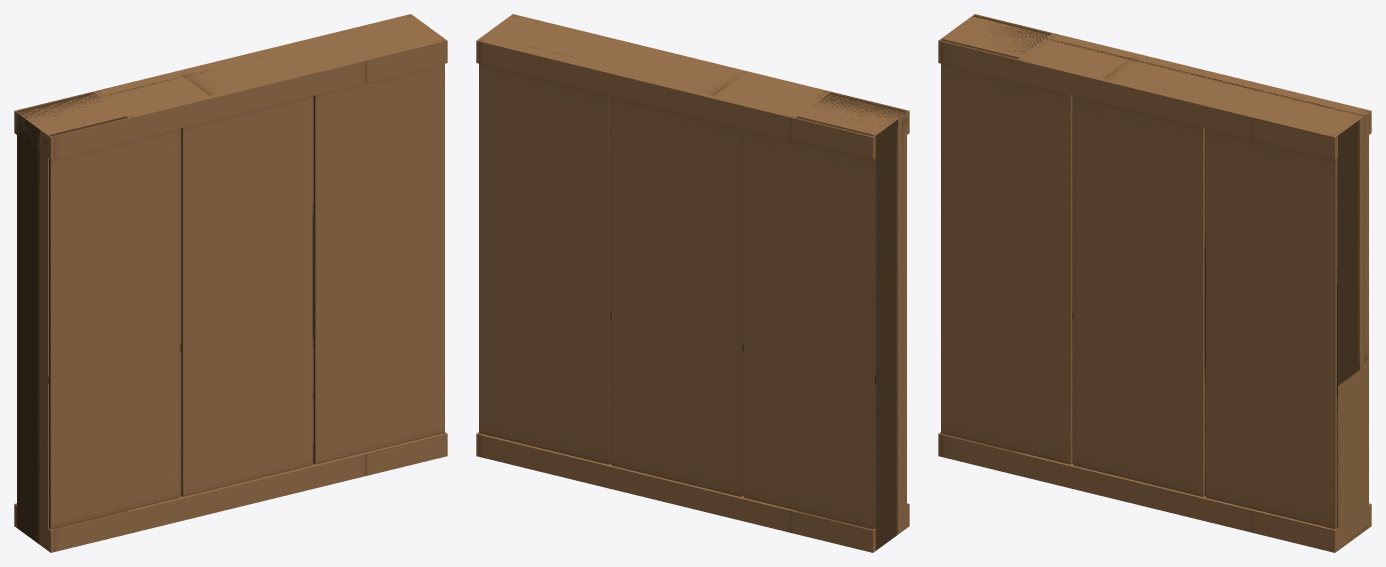
Rendered from BD_wall.glb.
3 renders of one model, left to right at view 1: azimuth 30°, elevation 25°; view 2: azimuth 150°, elevation 25°; view 3: azimuth 330°, elevation 25°, orthographic.
Visible parts, largest first — view 1: BD_wall; view 2: BD_wall; view 3: BD_wall.
Part boxes in pixels (left/top/right/bottom): BD_wall: left=14, top=14, right=447, bottom=552; BD_wall: left=476, top=14, right=909, bottom=552; BD_wall: left=938, top=14, right=1371, bottom=552.
Size of the model in its own units: 3 by 3 by 0.48.
Materials: 1 (1 with a texture image).
